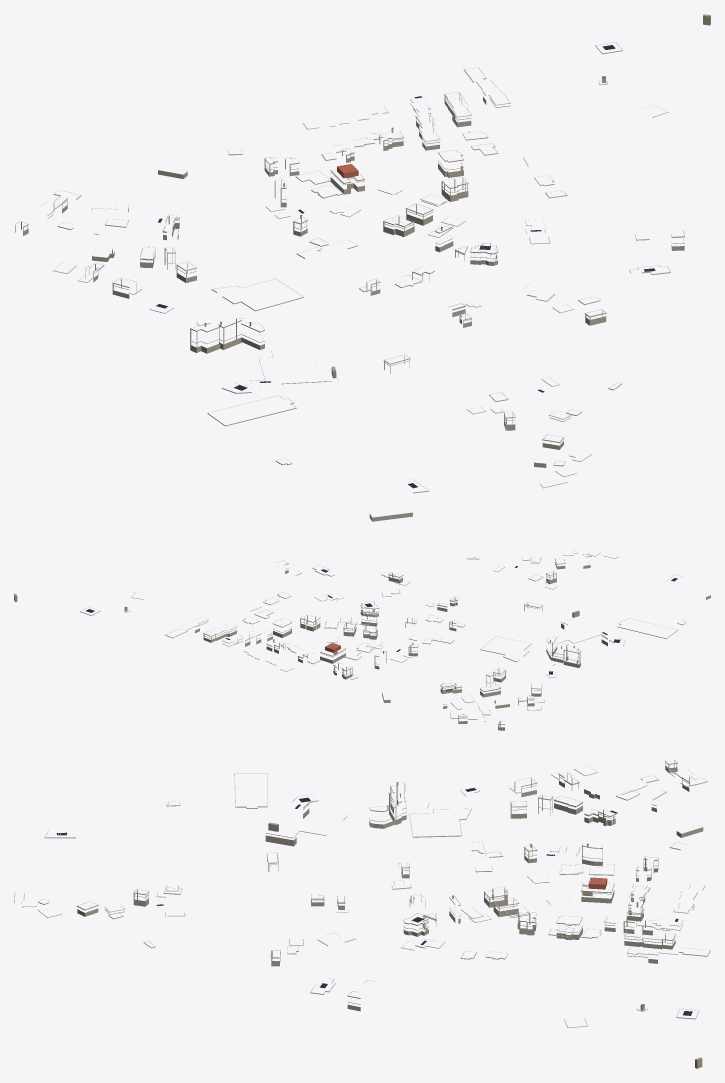
3 renders of one model, top to bottom at view 1: azimuth 30°, elevation 25°; view 2: azimuth 150°, elevation 25°; view 3: azimuth 270°, elevation 25°, orthographic. The views are drawn at different scales.
Parts seen in each view (by area): view 1: detail; view 2: detail; view 3: detail.
Part boxes in pixels (x1,y1,x2,y2): detail: [15, 14, 710, 521]; detail: [14, 550, 710, 730]; detail: [14, 759, 710, 1068].
Bounding box in the file's own units: 508 × 59.89 × 443.
